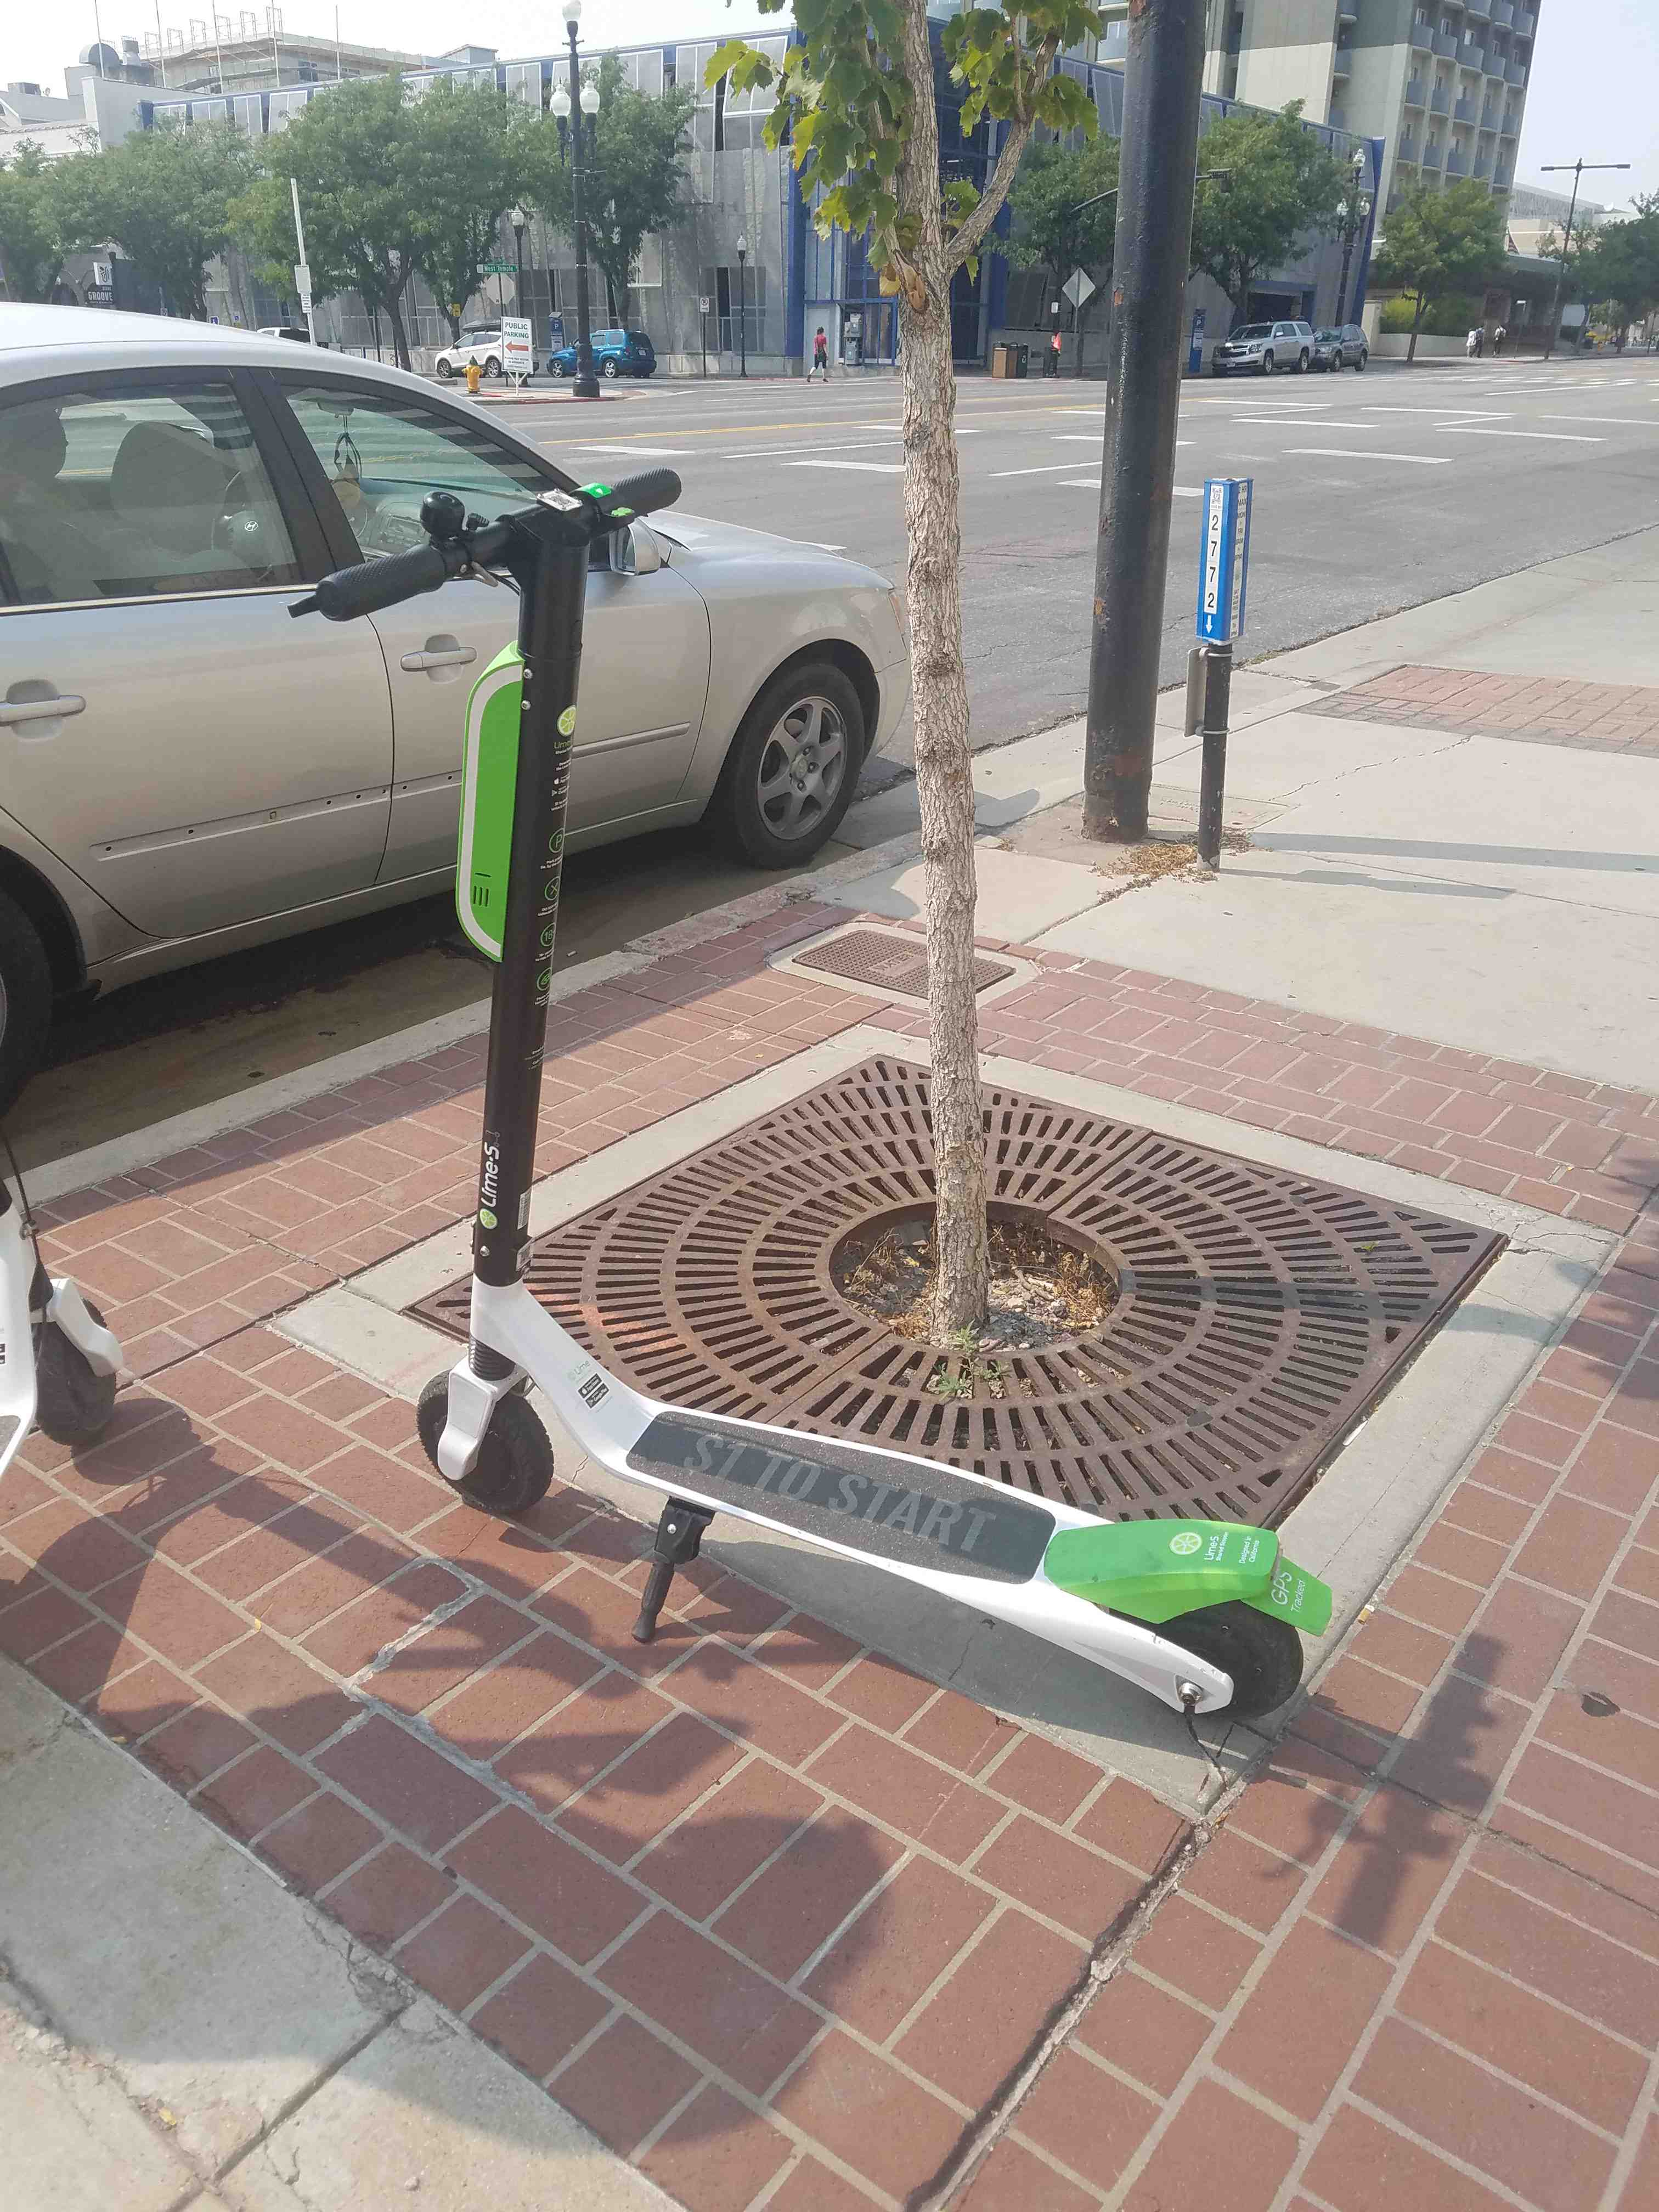scooter: (272, 383, 1352, 1775)
